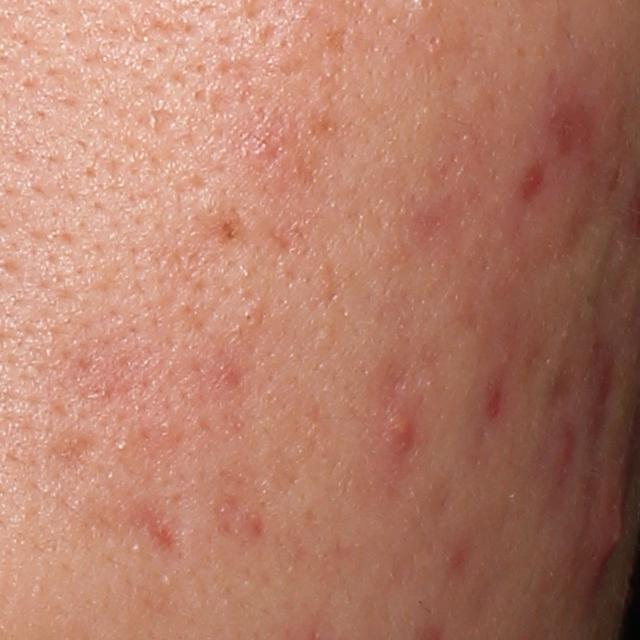atrophic_scar: (127, 495, 193, 557), (39, 428, 102, 470), (550, 359, 580, 413)
comedo: (240, 305, 262, 328)
papule: (587, 490, 632, 563), (383, 393, 417, 463), (545, 429, 575, 477), (521, 161, 547, 197)
